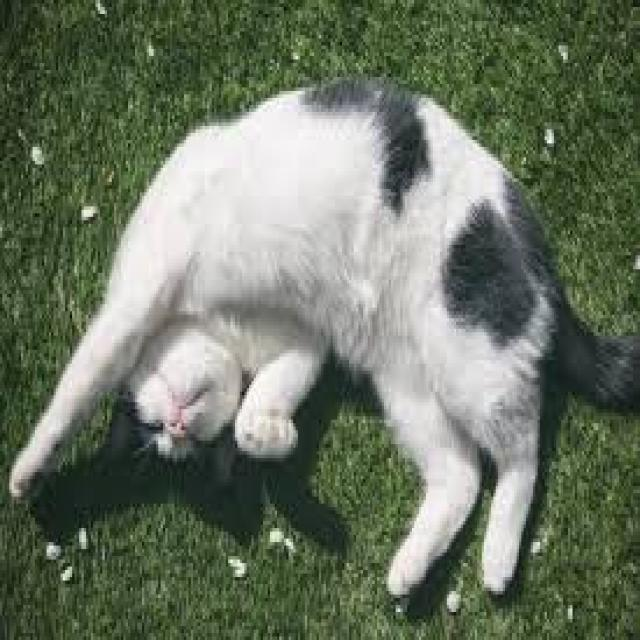cat: (7, 66, 640, 602)
